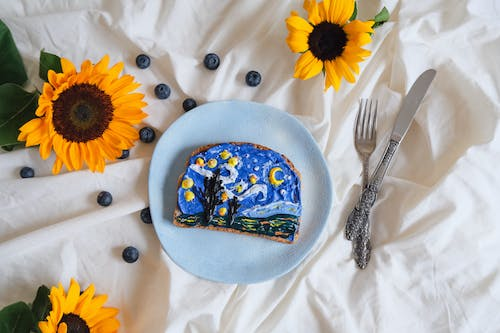knife: (342, 67, 438, 240)
